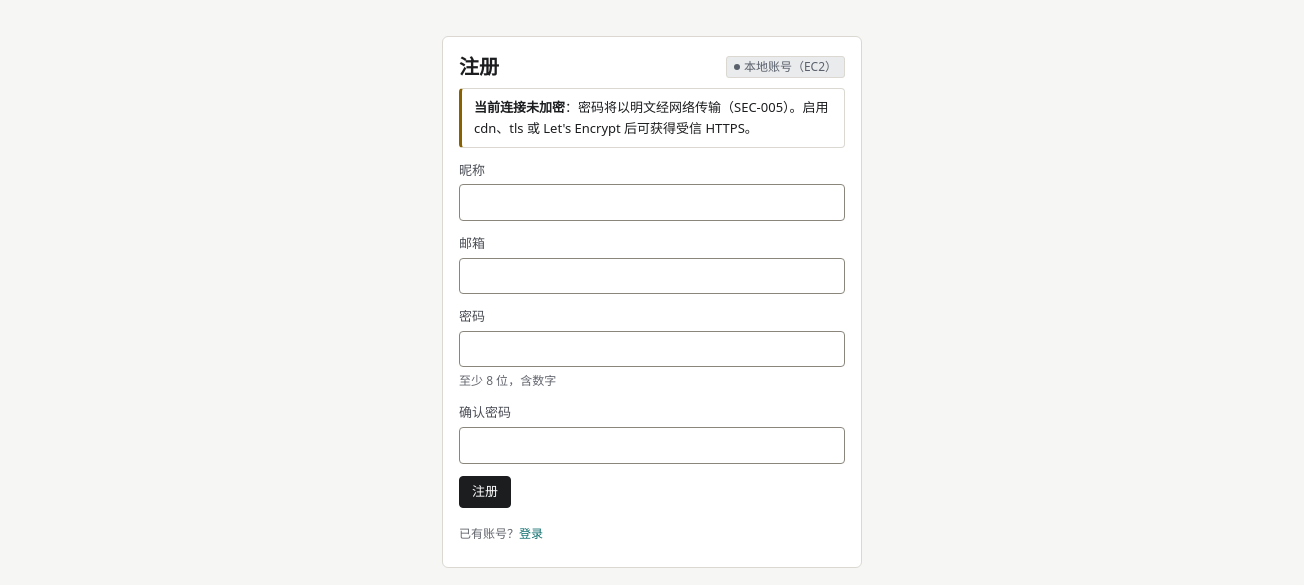
注册 → /me/outbox → 验证（L0 冒烟测试第 2 条的前端路径） › 注册后提示本地 outbox；受限会话可以在 /me/outbox 看到验证邮件；验证链接自动提交
Type "新同学" into the field labelled "昵称" at (652, 203), box [459,184,845,221]
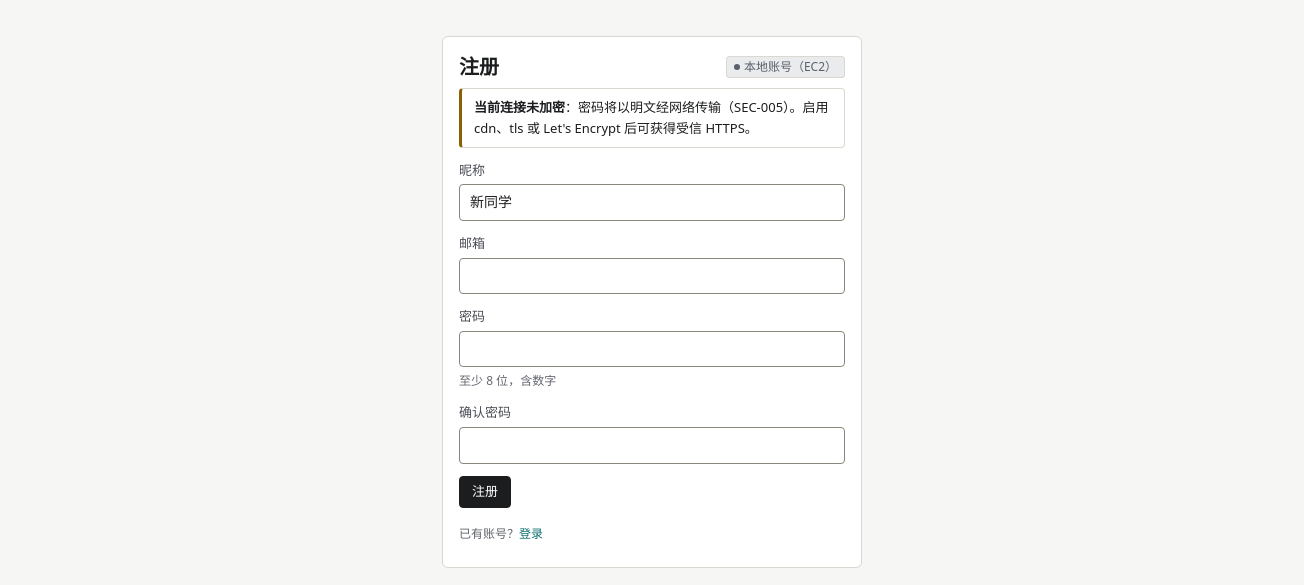
Type "new@example.com" into the field labelled "邮箱" at (652, 276), box [459,258,845,294]
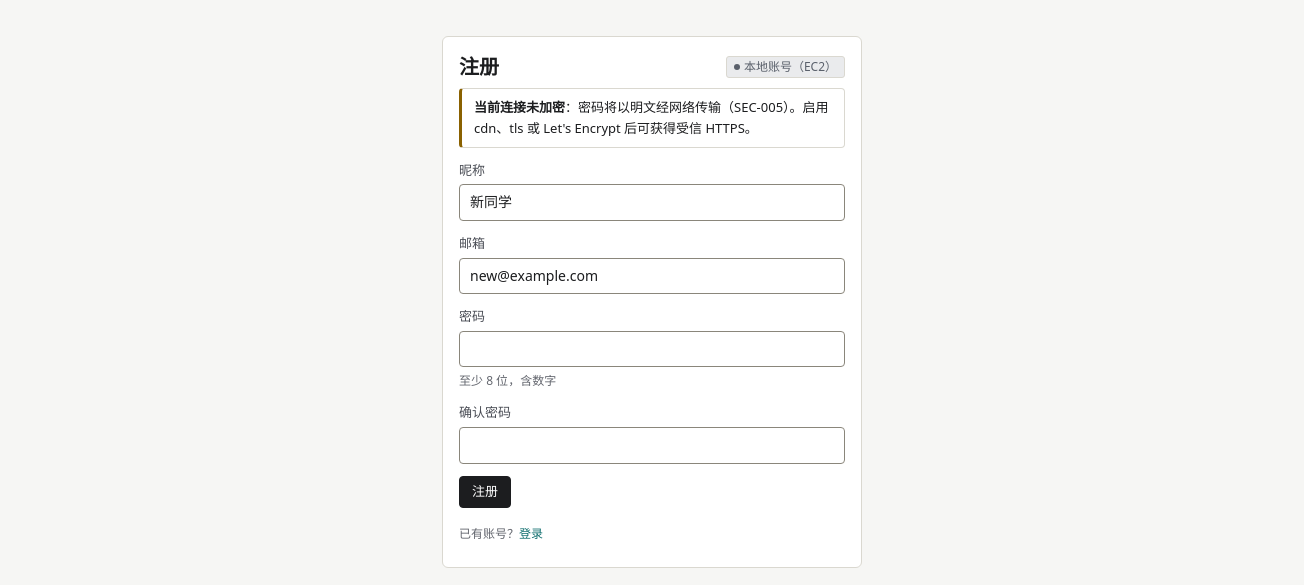
Type "abc12345" into the password field labelled "密码" at (652, 349), box [459,331,845,367]
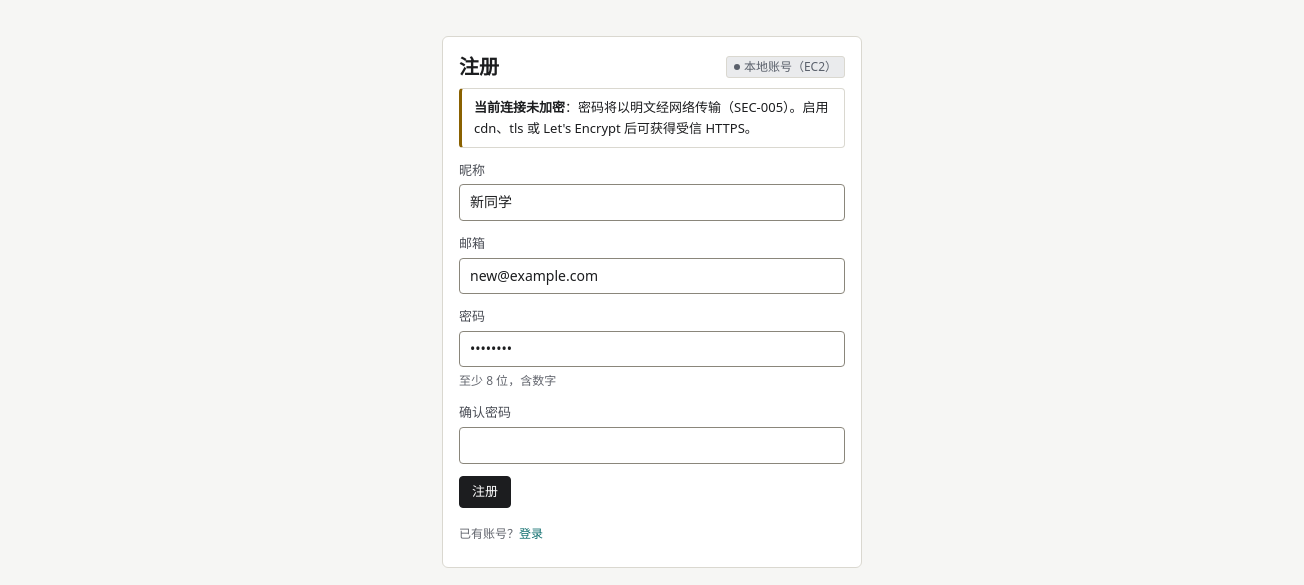
Type "abc12345" into the password field labelled "确认密码" at (652, 445), box [459,427,845,464]
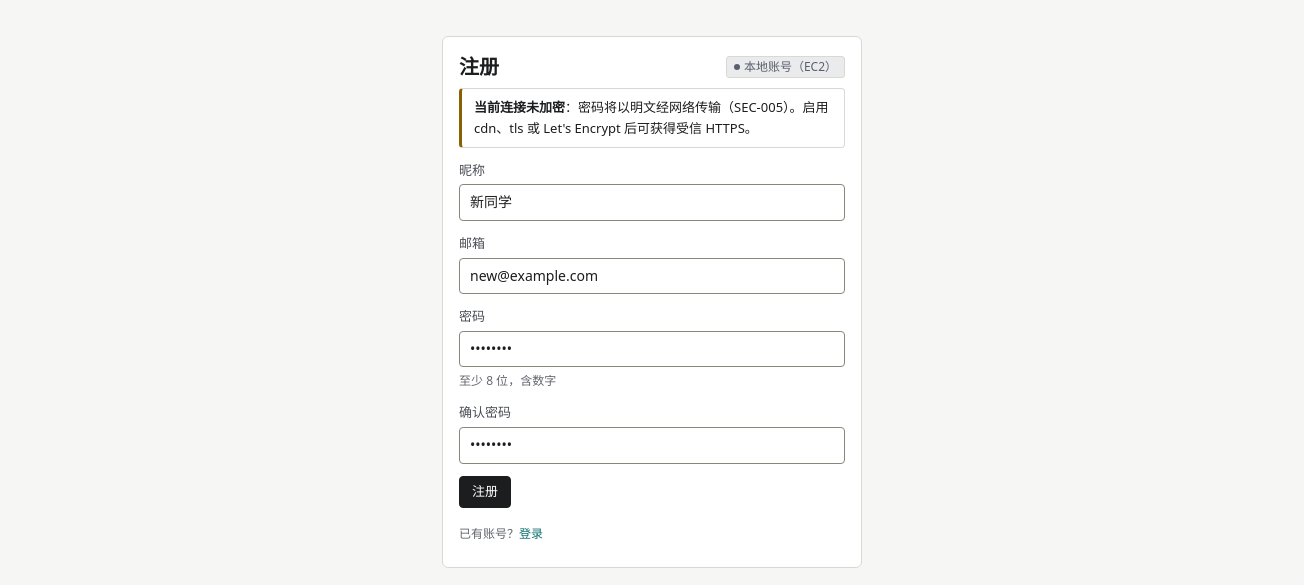
Click the button "注册" at (485, 492), box [459,476,511,508]
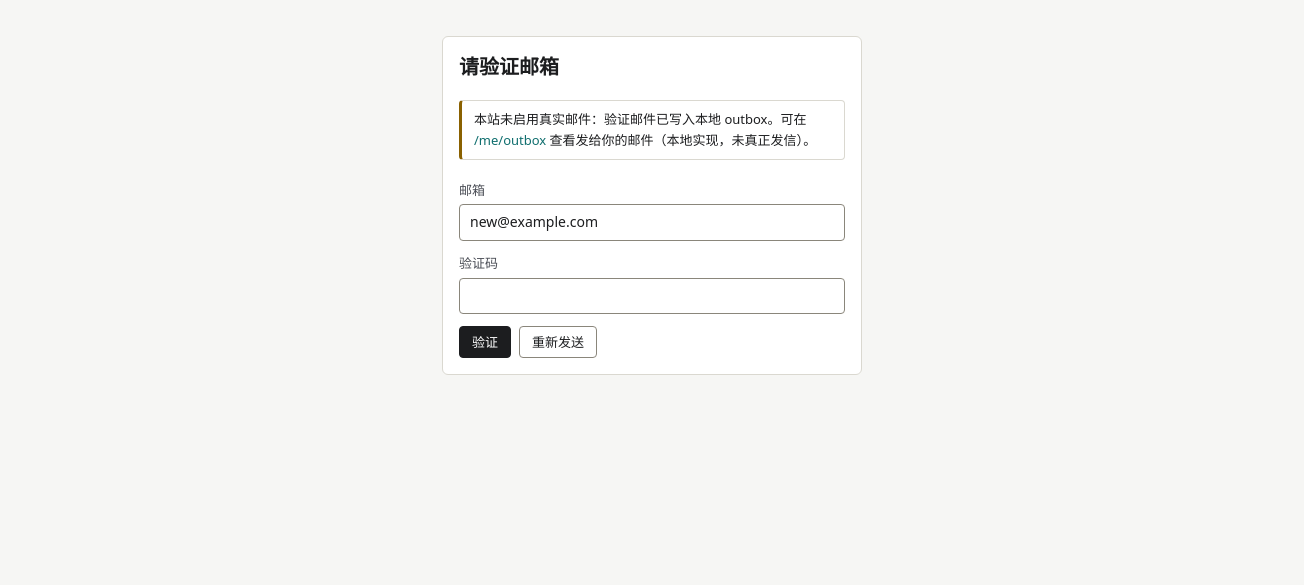
Check: the text "验证邮件已写入本地 outbox" is shown, box [474,110,806,128]
Click the link "/me/outbox" at (510, 140), box [474,131,546,149]
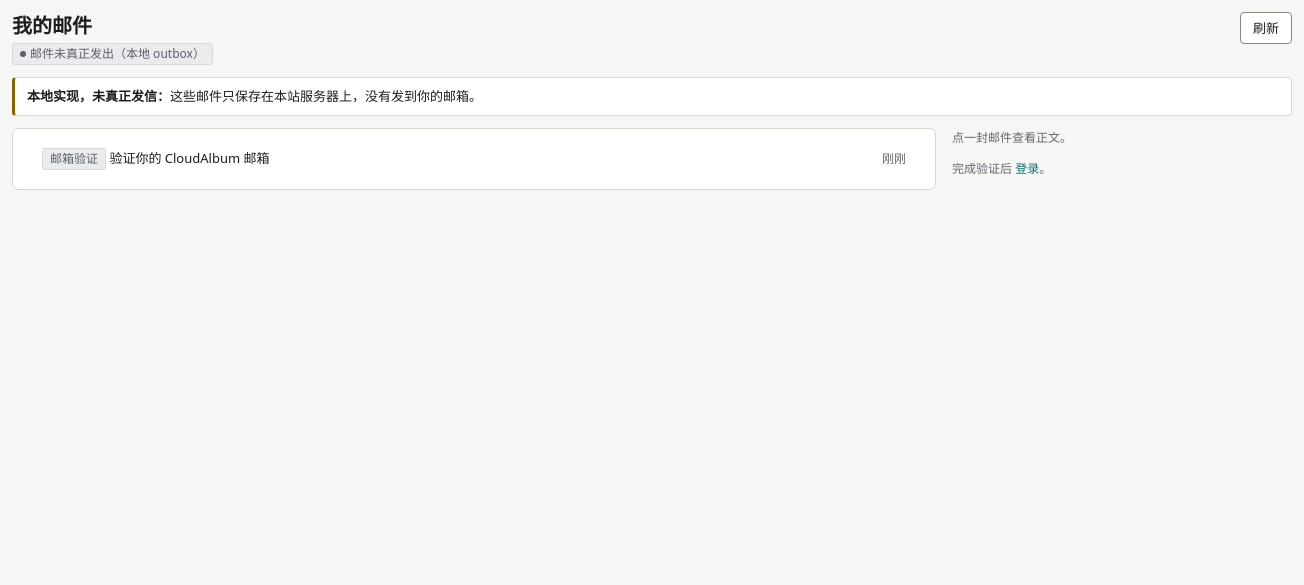
Check: the text "本地实现，未真正发信：" is shown, box [27,87,170,105]
Check: the text "验证你的 CloudAlbum 邮箱" is shown, box [109,149,270,167]
